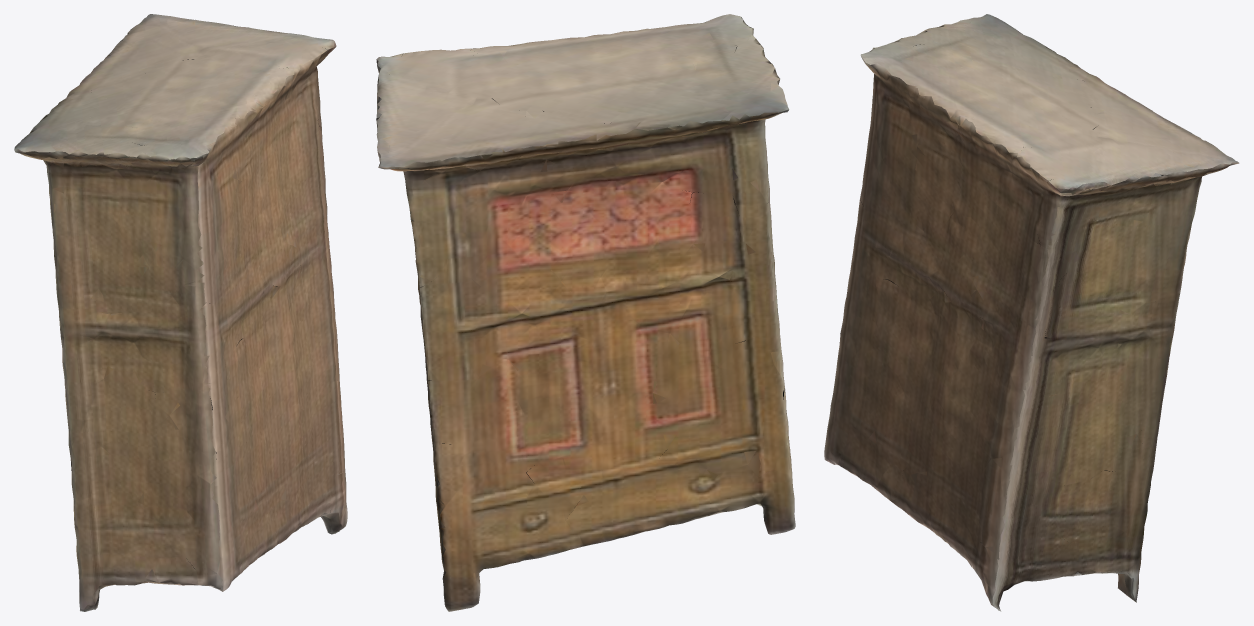
The picture shows the model from 3 angles, left to right: view 1: azimuth 30°, elevation 25°; view 2: azimuth 150°, elevation 25°; view 3: azimuth 270°, elevation 25°; orthographic projection. The views are drawn at different scales.
Parts seen in each view (by area): view 1: world; view 2: world; view 3: world.
Boxes of the visible parts, box(x1,y1,x2,y2) form: world: box(14, 14, 347, 611); world: box(376, 14, 795, 611); world: box(824, 14, 1239, 611).
Bounding box in the file's own units: 0.642 × 0.8684 × 0.6749.
Materials: 1 (1 with a texture image).
